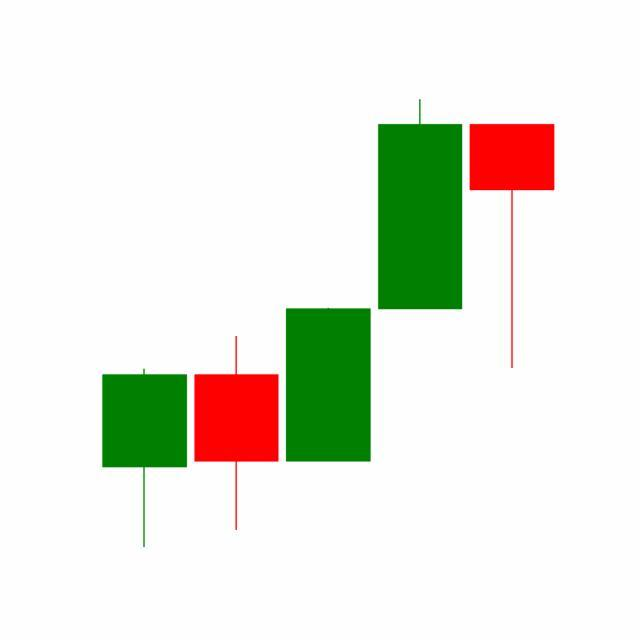Hammer: (466, 122, 559, 372)
